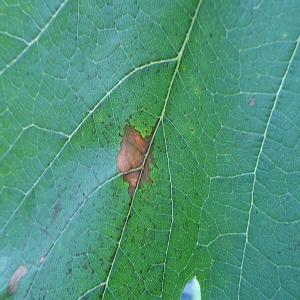Folha: (0, 0, 300, 299)
Fungo: (116, 122, 156, 199), (7, 263, 27, 294), (247, 96, 254, 106), (40, 255, 44, 263), (194, 88, 198, 94), (190, 128, 194, 132)
